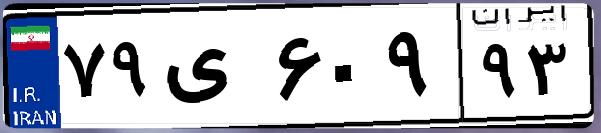0: (330, 28, 385, 110)
3: (525, 38, 570, 115)
6: (270, 28, 330, 110)
7: (57, 26, 110, 100)
9: (385, 28, 445, 110), (475, 38, 525, 113), (110, 28, 158, 98)
ی: (158, 20, 270, 120)
